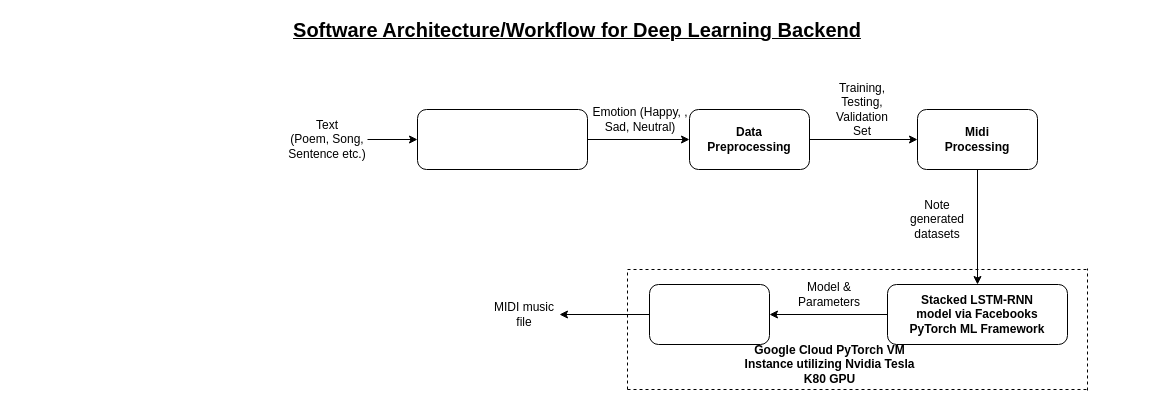
The diagram is 1154 pixels wide and 409 high, and some of its shapes have lost their labels. The shapes that lost their labels are listed below. From the top down, each one's centre as x and y in pixels, then its label:
(x=502, y=139): Emotion Analyze via IBM Waton Sentiment Analysis
(x=709, y=314): Training and Validation
